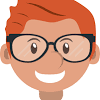Glasses: (2, 32, 96, 67)
